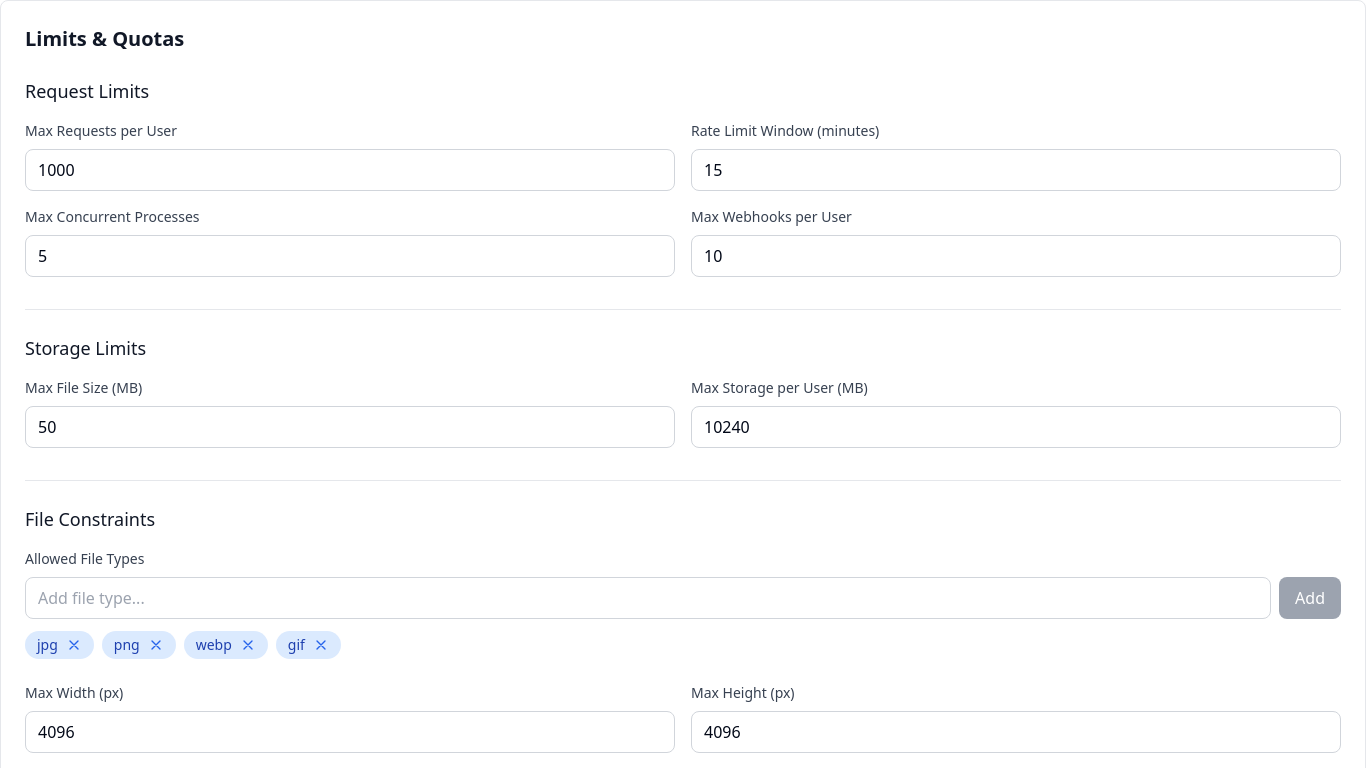
it: LimitsSettings › allows removing file type
Expected: the text "jpg" is shown, [25,631,94,659]
Click the button named "remove".
click(74, 645)  # box [66,637,82,653]
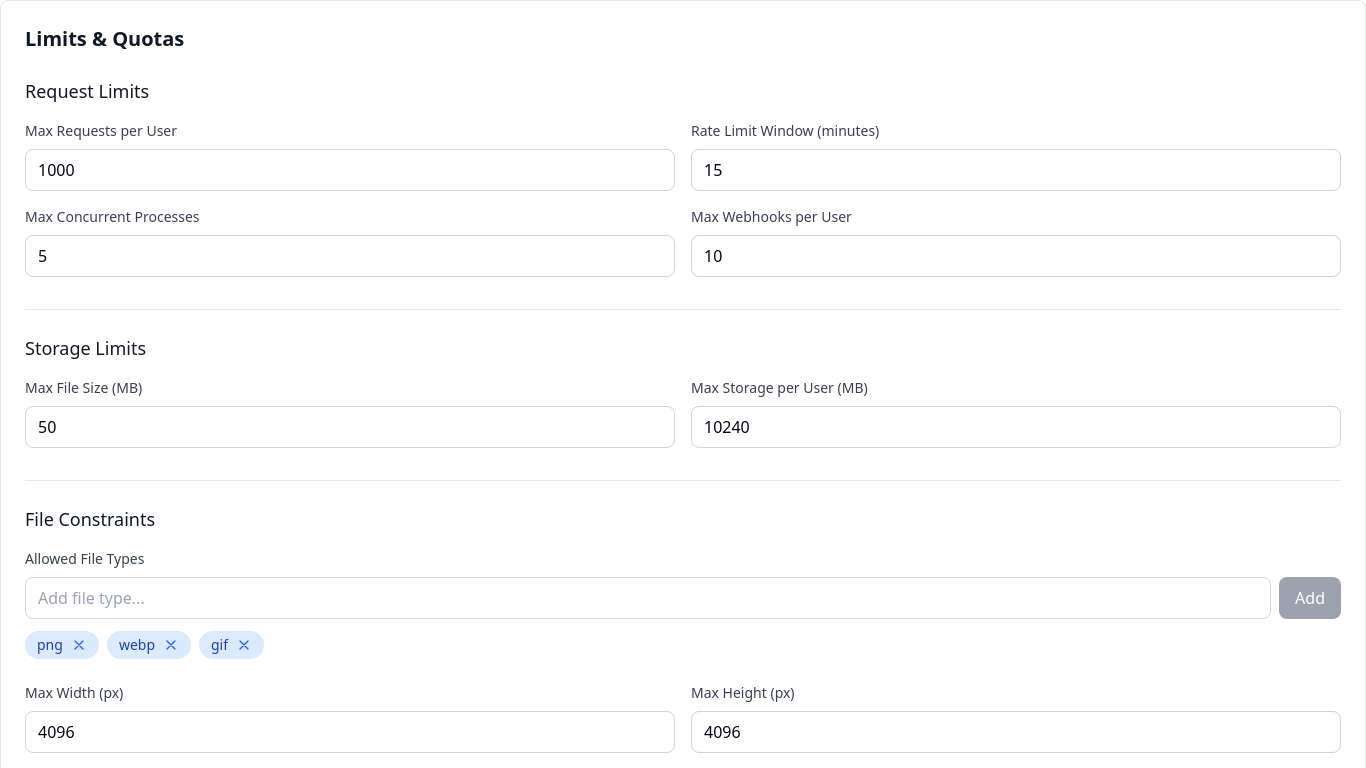
Now the text "jpg" is gone
